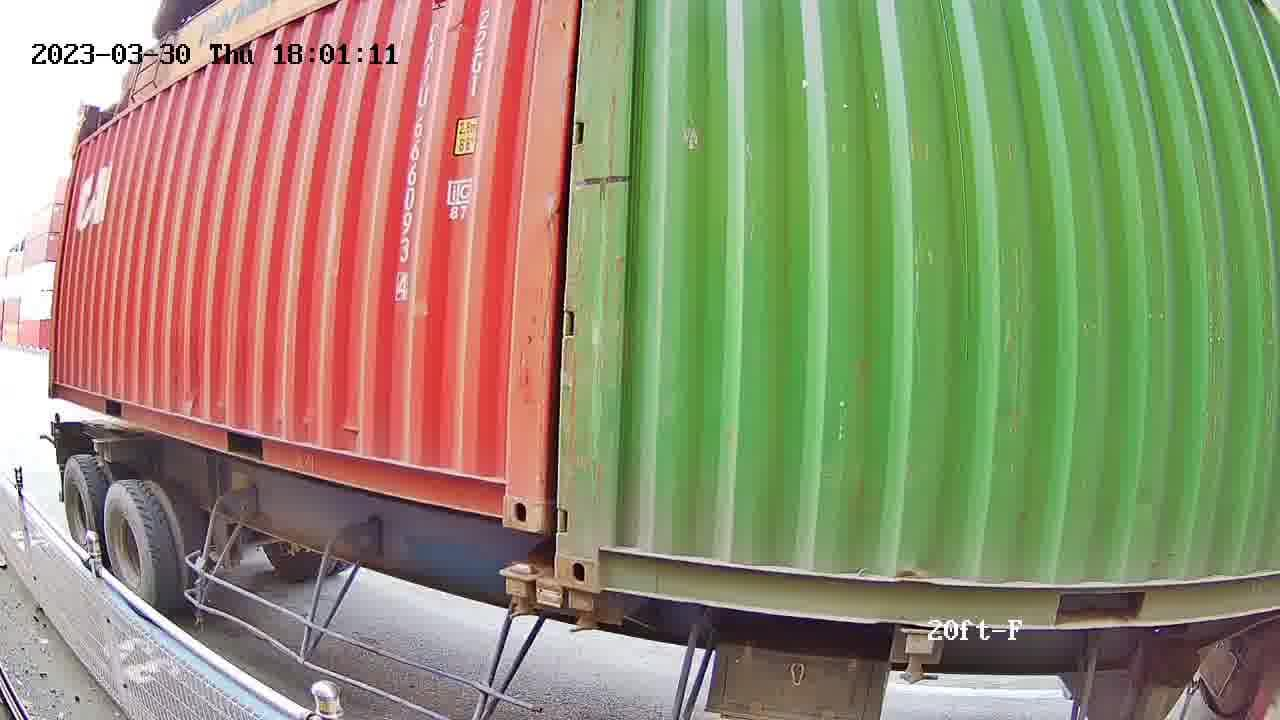Cone: (498, 562, 541, 619), (563, 588, 601, 634)
Hole_L: (555, 517, 640, 596)
Hole_R: (472, 454, 545, 532)
Tire: (105, 484, 160, 613), (65, 455, 99, 563)
